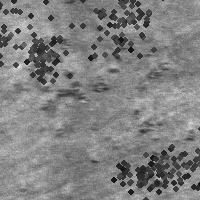rolled-in_scale: (9, 28, 121, 110), (134, 47, 192, 188), (64, 0, 174, 74), (4, 17, 78, 91), (0, 0, 60, 83), (122, 131, 190, 199), (149, 117, 200, 200), (101, 145, 157, 200)
